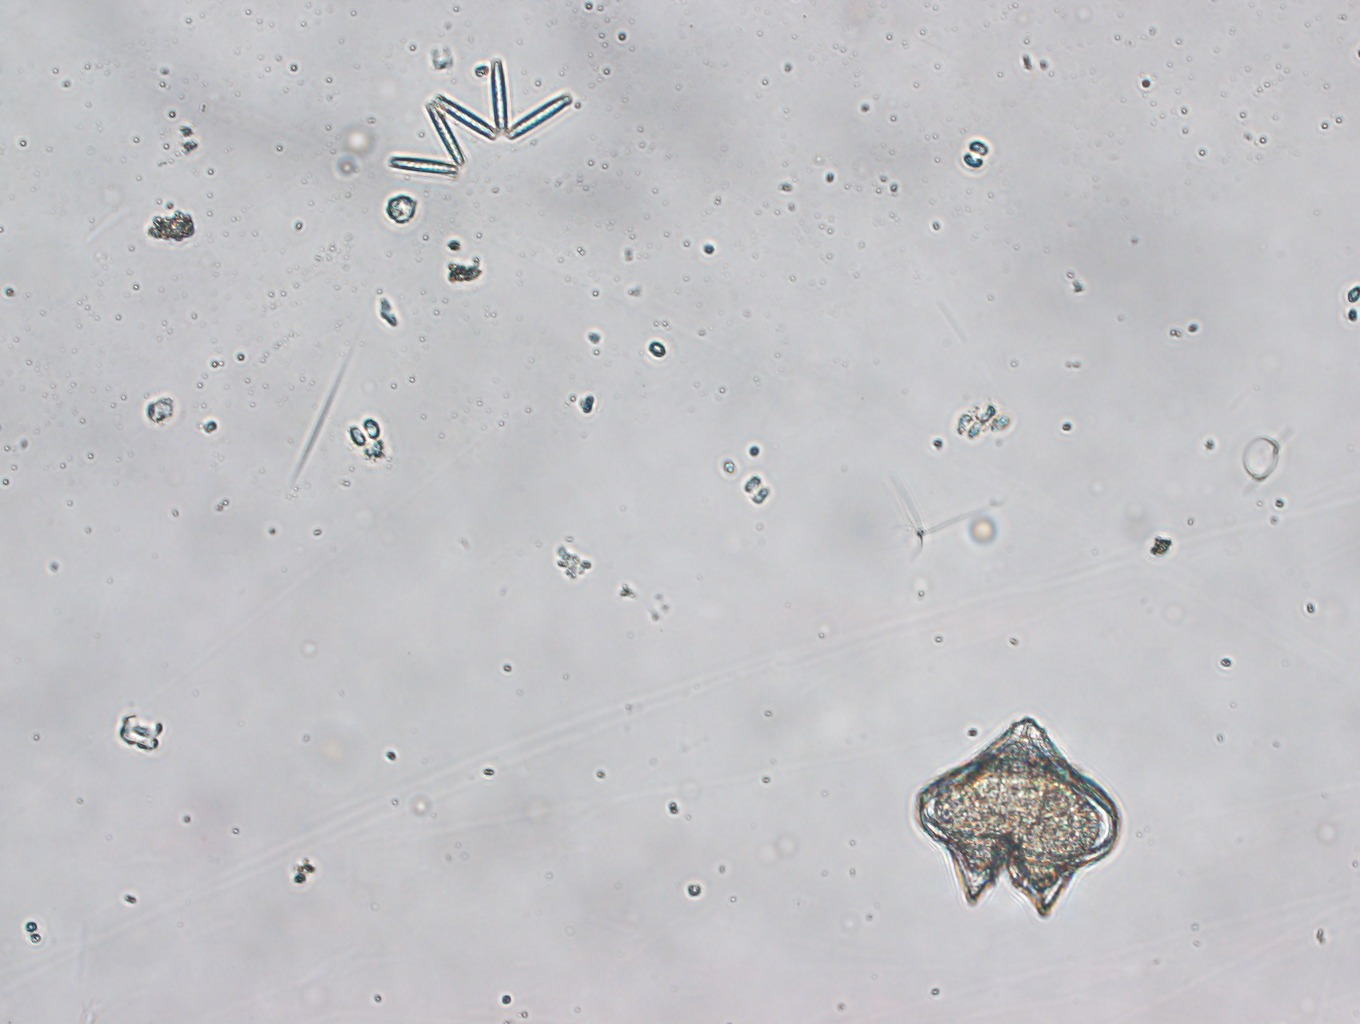protoperidinium: (901, 710, 1130, 926)
thalassionema nitzschioides: (386, 65, 591, 184)
